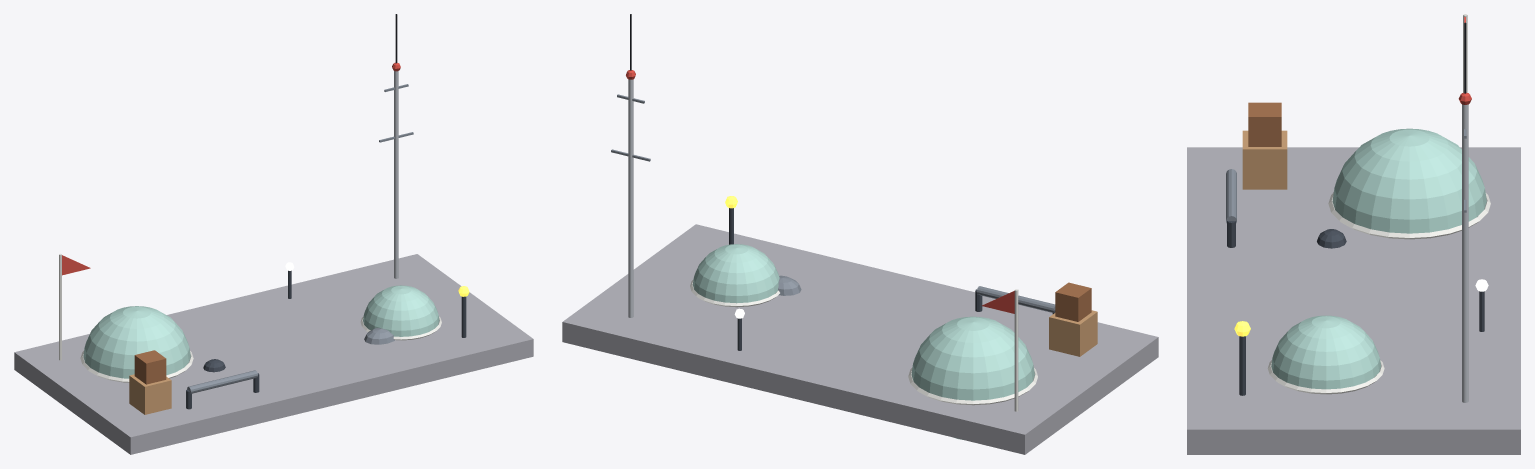
The model's file is site_moon.glb.
The picture shows the model from 3 angles, left to right: view 1: azimuth 30°, elevation 25°; view 2: azimuth 150°, elevation 25°; view 3: azimuth 270°, elevation 25°; orthographic projection. The views are drawn at different scales.
Visible parts, largest first — view 1: site_moon; view 2: site_moon; view 3: site_moon.
Part boxes in pixels (x1=…): site_moon: x1=14, y1=14, x2=533, y2=454; site_moon: x1=562, y1=14, x2=1158, y2=454; site_moon: x1=1187, y1=14, x2=1520, y2=454.
Size of the model in its own units: 12 by 8.9 by 6.
